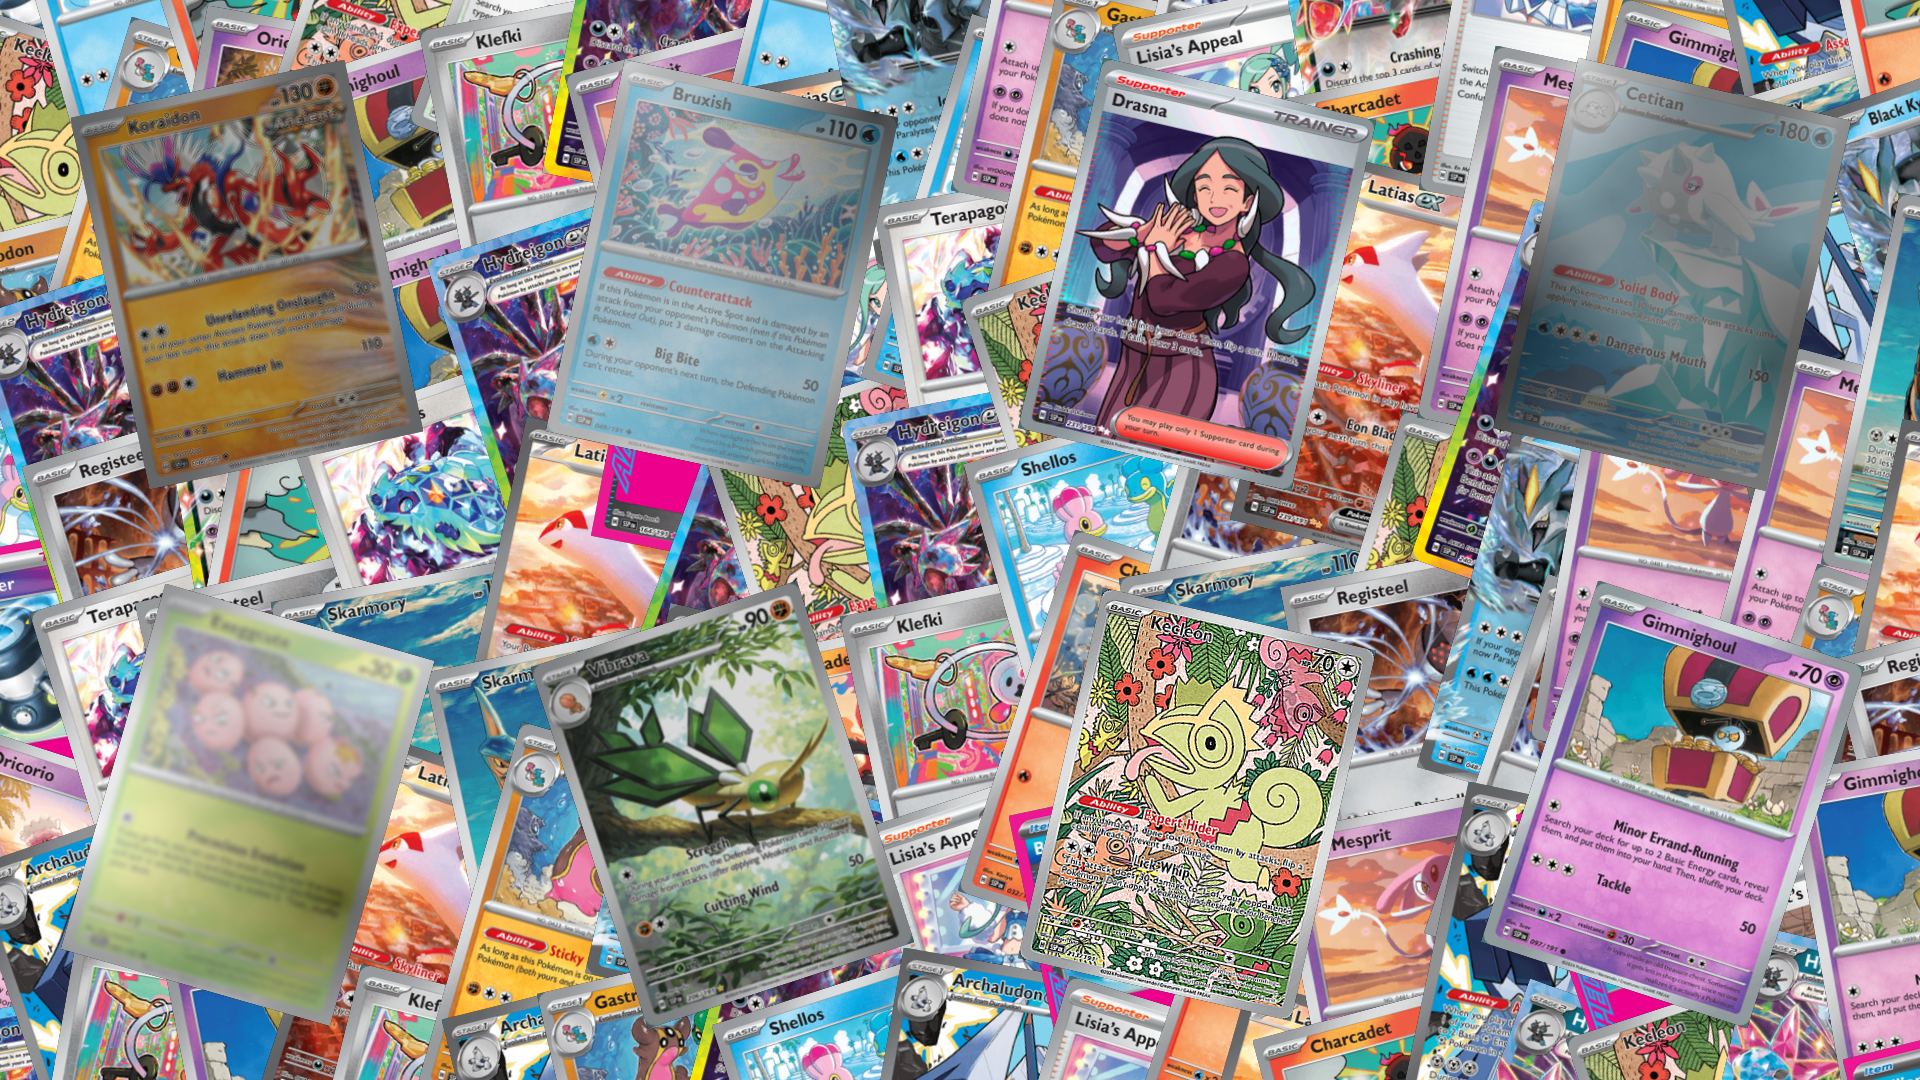Bruxish: (545, 59, 898, 489)
Cetitan: (1491, 57, 1851, 491)
Drasna: (1017, 57, 1375, 491)
Exeggcute: (61, 583, 434, 1026)
Gimmighoul: (1480, 580, 1865, 1029)
Kecleon: (1017, 587, 1375, 1021)
Koraidon: (70, 59, 423, 489)
Vibrava: (530, 580, 914, 1029)
